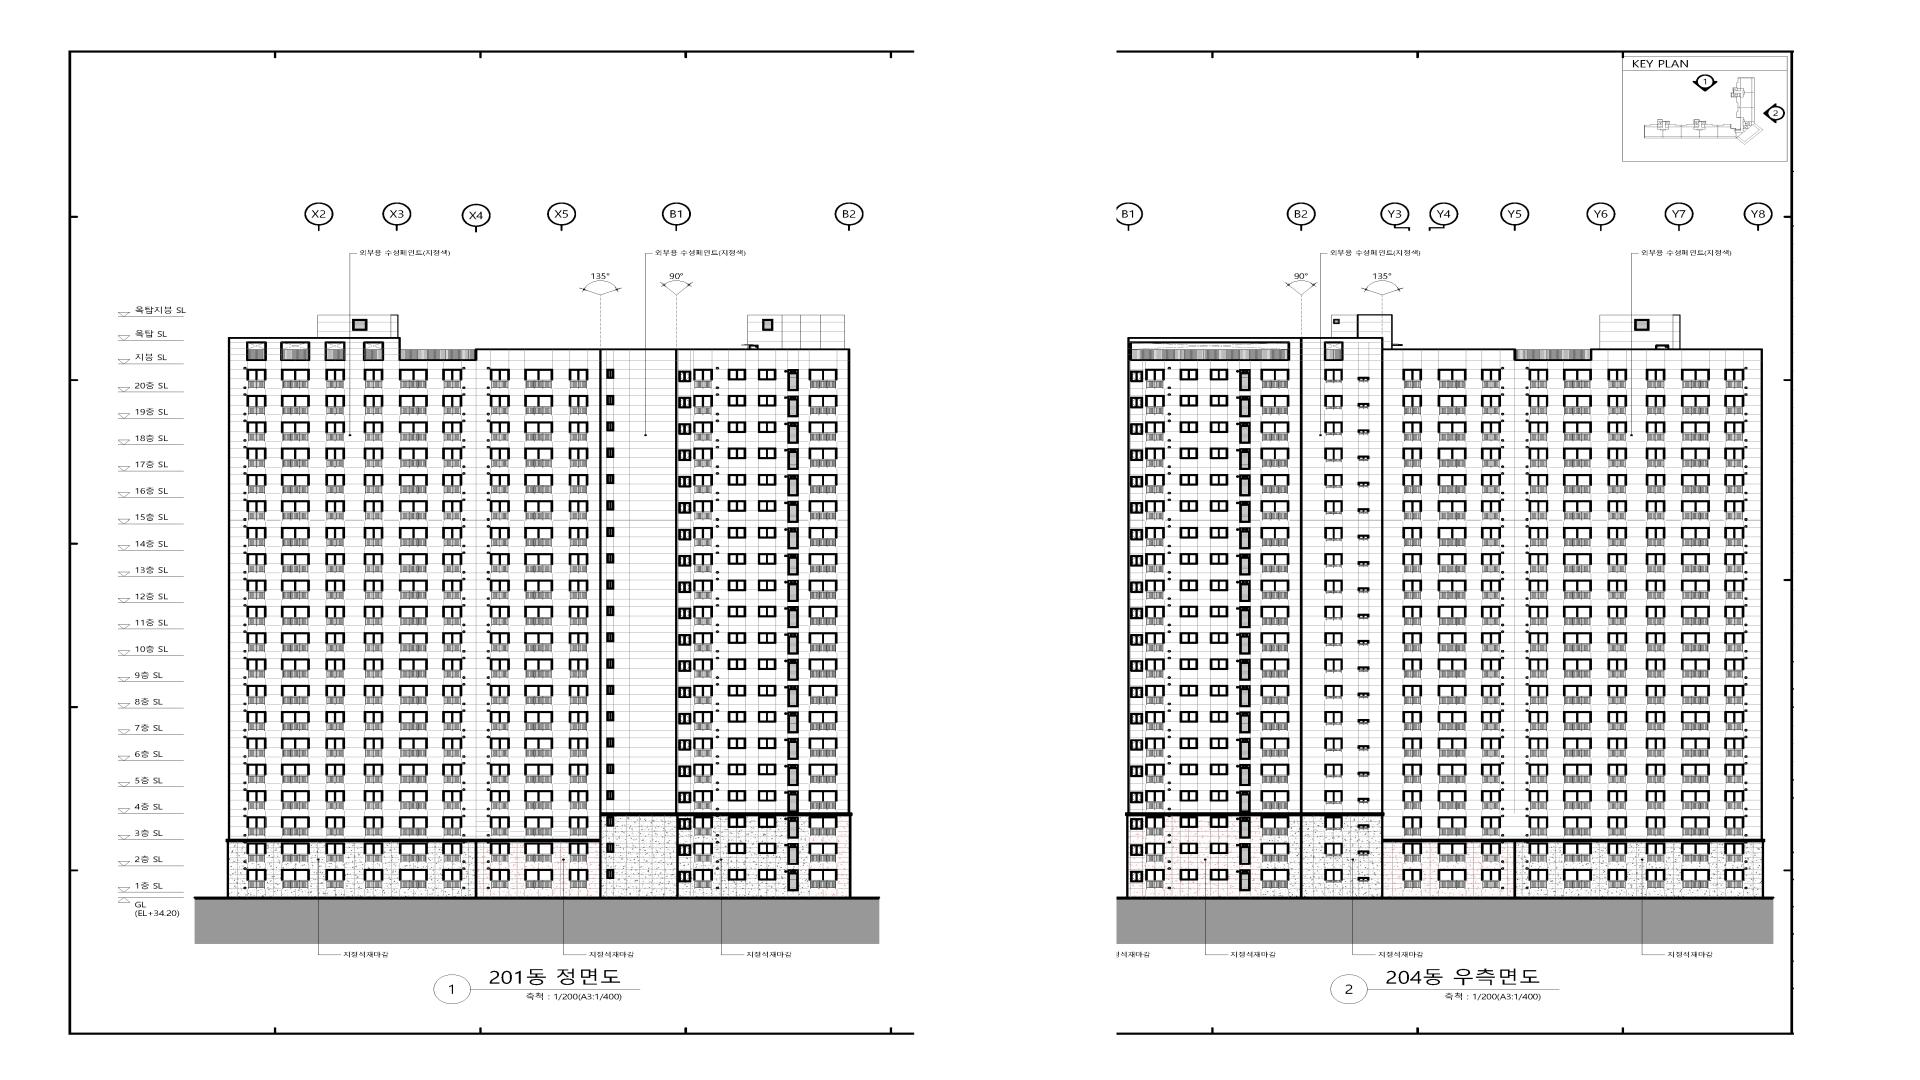wall: (195, 315, 880, 899), (1117, 314, 1774, 899)
window: (1131, 343, 1287, 360), (524, 394, 554, 415), (398, 473, 429, 495), (398, 605, 429, 626), (524, 658, 554, 679), (524, 711, 554, 732), (398, 711, 429, 732), (524, 737, 554, 758), (524, 473, 553, 495), (524, 500, 553, 521), (525, 553, 554, 574), (398, 394, 427, 415), (400, 447, 429, 468), (281, 394, 310, 415), (281, 421, 310, 442), (281, 447, 310, 468), (281, 500, 310, 521), (398, 500, 427, 521), (398, 553, 427, 574), (398, 632, 427, 653), (524, 605, 553, 626), (524, 632, 553, 653), (524, 684, 553, 705), (281, 632, 310, 653), (281, 658, 310, 679), (281, 684, 310, 705), (281, 711, 310, 732), (281, 737, 310, 758), (281, 764, 310, 785), (281, 816, 310, 837), (281, 843, 310, 864), (398, 790, 427, 811), (398, 737, 427, 758), (398, 684, 427, 705), (398, 658, 427, 679), (525, 764, 554, 785), (525, 790, 554, 811), (524, 843, 553, 864), (808, 447, 837, 468), (808, 473, 837, 495), (808, 500, 837, 521), (808, 553, 837, 574), (808, 579, 837, 600), (808, 605, 837, 626), (808, 632, 837, 653), (808, 658, 837, 679), (808, 684, 837, 705), (808, 711, 837, 732), (808, 737, 837, 758), (808, 790, 837, 811), (1261, 394, 1290, 415), (1261, 421, 1290, 442), (1261, 447, 1290, 468), (1261, 473, 1290, 495), (1261, 500, 1290, 521), (1261, 526, 1290, 547), (1261, 605, 1290, 626), (1261, 632, 1290, 653), (1261, 658, 1290, 679), (1261, 684, 1290, 705), (1261, 737, 1290, 758), (1261, 764, 1290, 785), (1261, 790, 1290, 811), (1261, 843, 1290, 864), (1437, 843, 1466, 864), (1437, 816, 1466, 837), (1563, 816, 1592, 837), (1563, 764, 1592, 785), (1437, 790, 1466, 811), (1437, 764, 1466, 785), (1437, 737, 1466, 758), (1563, 737, 1592, 758), (1563, 711, 1592, 732), (1437, 711, 1466, 732), (1437, 684, 1466, 705), (1563, 684, 1592, 705), (1563, 658, 1592, 679), (1563, 632, 1592, 653), (1437, 658, 1466, 679), (1437, 632, 1466, 653), (1437, 605, 1466, 626), (1563, 579, 1592, 600), (1563, 605, 1592, 626), (1437, 579, 1466, 600), (1437, 553, 1466, 574), (1563, 553, 1592, 574), (1437, 526, 1466, 547), (1437, 500, 1466, 521), (1563, 500, 1592, 521), (1563, 447, 1592, 468), (1437, 473, 1466, 495), (1437, 447, 1466, 468), (1437, 421, 1466, 442), (1563, 421, 1592, 442), (1563, 394, 1592, 415), (1437, 394, 1466, 415), (1681, 394, 1710, 415), (1681, 421, 1710, 442), (1681, 447, 1710, 468), (1681, 473, 1710, 495), (1681, 500, 1710, 521), (1681, 553, 1710, 574), (1681, 579, 1710, 600), (1681, 605, 1710, 626), (1681, 632, 1710, 653), (1681, 658, 1710, 679), (1681, 684, 1710, 705), (1681, 711, 1710, 732), (1681, 737, 1710, 758), (1681, 790, 1710, 811), (1681, 816, 1710, 837), (280, 342, 310, 361), (524, 422, 554, 442), (524, 448, 554, 468), (524, 580, 554, 600), (398, 869, 429, 889), (398, 764, 429, 783), (524, 816, 554, 836), (524, 369, 554, 389), (398, 369, 429, 389), (1680, 369, 1710, 389), (524, 527, 553, 547), (398, 422, 427, 442), (281, 475, 310, 495), (398, 527, 427, 547), (398, 580, 427, 600), (281, 527, 310, 547), (281, 554, 310, 574), (281, 580, 310, 600), (281, 607, 310, 626), (281, 790, 310, 810), (281, 869, 310, 889), (400, 843, 429, 862), (400, 816, 429, 836), (524, 869, 553, 889), (808, 369, 837, 389), (281, 369, 310, 389), (808, 396, 837, 415), (808, 422, 837, 442), (808, 527, 837, 547), (808, 764, 837, 783), (808, 816, 837, 836), (808, 843, 837, 862), (808, 869, 837, 889), (1261, 369, 1290, 389), (1261, 554, 1290, 574), (1261, 580, 1290, 600), (1261, 711, 1290, 731), (1261, 816, 1290, 836), (1261, 869, 1290, 889), (1437, 869, 1466, 889), (1563, 843, 1592, 862), (1563, 869, 1592, 889), (1563, 790, 1592, 810), (1563, 527, 1592, 547), (1563, 475, 1592, 495), (1681, 527, 1710, 547), (1681, 764, 1710, 783), (1681, 843, 1710, 862), (1681, 869, 1710, 889), (1437, 369, 1466, 389), (1563, 369, 1592, 389), (568, 394, 589, 415), (489, 447, 510, 468), (568, 500, 589, 521), (568, 526, 589, 547), (489, 473, 510, 495), (568, 605, 589, 626), (568, 684, 589, 705), (442, 737, 463, 758), (442, 684, 463, 705), (489, 632, 510, 653), (442, 632, 463, 653), (489, 605, 510, 626), (442, 605, 463, 626), (489, 553, 510, 574), (324, 500, 345, 521), (442, 368, 463, 389), (692, 815, 713, 836), (324, 342, 345, 361), (694, 394, 713, 415), (694, 421, 713, 442), (694, 447, 713, 468), (694, 473, 713, 495), (694, 553, 713, 574), (694, 579, 713, 600), (694, 605, 713, 626), (694, 632, 713, 653), (694, 737, 713, 758), (489, 396, 510, 415), (442, 396, 463, 415), (364, 394, 384, 415), (568, 447, 588, 468), (568, 473, 588, 495), (568, 553, 588, 574), (568, 579, 588, 600), (568, 632, 588, 653), (568, 658, 588, 679), (489, 843, 510, 862), (442, 843, 463, 862), (442, 816, 463, 836), (489, 816, 510, 836), (489, 790, 510, 810), (442, 790, 463, 810), (489, 764, 510, 783), (489, 737, 510, 757), (489, 711, 510, 731), (489, 684, 510, 704), (489, 580, 510, 600), (442, 554, 463, 574), (489, 527, 510, 547), (491, 500, 510, 521), (442, 500, 463, 520), (442, 475, 463, 495), (442, 447, 462, 468), (364, 421, 384, 442), (326, 421, 345, 442), (364, 447, 384, 468), (326, 473, 345, 495), (364, 500, 384, 521), (326, 553, 345, 574), (364, 553, 384, 574), (364, 579, 384, 600), (326, 605, 345, 626), (364, 605, 384, 626), (326, 632, 345, 653), (568, 421, 588, 442), (489, 422, 510, 442), (364, 632, 384, 653), (364, 684, 384, 705), (326, 711, 345, 732), (364, 711, 384, 732), (363, 869, 384, 889), (247, 684, 266, 705), (247, 605, 266, 626), (247, 579, 266, 600), (247, 553, 266, 574), (247, 500, 266, 521), (363, 342, 384, 361), (489, 369, 510, 389), (247, 447, 266, 468), (1725, 684, 1745, 705), (1646, 737, 1665, 758), (1725, 737, 1745, 758), (1725, 790, 1745, 811), (1646, 843, 1665, 864), (1481, 764, 1501, 785), (1402, 737, 1422, 758), (1481, 737, 1501, 758), (1528, 711, 1548, 732), (1481, 711, 1501, 732), (1402, 711, 1422, 732), (1402, 684, 1422, 705), (1481, 684, 1501, 705), (1528, 684, 1548, 705), (1402, 658, 1422, 679), (1481, 658, 1501, 679), (1528, 658, 1548, 679), (1402, 605, 1422, 626), (1481, 605, 1501, 626), (1403, 579, 1423, 600), (1481, 553, 1501, 574), (1528, 553, 1548, 574), (1528, 500, 1548, 521), (1528, 473, 1548, 495), (1607, 394, 1627, 415), (1646, 394, 1665, 415), (1725, 394, 1745, 415), (1607, 421, 1627, 442), (1607, 447, 1627, 468), (1646, 447, 1665, 468), (1724, 447, 1743, 468), (1607, 473, 1627, 495), (1646, 473, 1665, 495), (1725, 473, 1745, 495), (1607, 500, 1627, 521), (1646, 500, 1665, 521), (1725, 500, 1745, 521), (1646, 553, 1665, 574), (1607, 605, 1627, 626), (1725, 632, 1745, 653), (1646, 632, 1665, 653), (1607, 632, 1627, 653), (1607, 658, 1627, 679), (1607, 684, 1627, 705), (1725, 658, 1745, 679), (1145, 394, 1164, 415), (1145, 500, 1164, 521), (1145, 553, 1164, 574), (1145, 579, 1164, 600), (1145, 605, 1164, 626), (1145, 632, 1164, 653), (1145, 658, 1164, 679), (1145, 684, 1164, 705), (1145, 737, 1164, 758), (1528, 816, 1548, 837), (1402, 473, 1422, 495), (1402, 394, 1422, 415), (1481, 394, 1501, 415), (1528, 421, 1548, 442), (1481, 447, 1501, 468), (1402, 421, 1422, 442), (1402, 447, 1422, 468), (247, 369, 266, 389), (247, 342, 266, 361), (694, 500, 713, 520), (694, 527, 713, 547), (694, 658, 713, 678), (694, 684, 713, 704), (694, 711, 713, 731), (326, 396, 345, 415), (247, 396, 266, 415), (568, 711, 588, 731), (568, 737, 588, 757), (568, 764, 588, 783), (568, 790, 588, 810), (568, 816, 588, 836), (568, 843, 588, 862), (568, 869, 588, 889), (491, 869, 510, 889), (442, 869, 462, 889), (442, 764, 462, 783), (442, 711, 462, 731), (442, 658, 462, 678), (491, 658, 510, 678), (442, 580, 462, 600), (442, 527, 462, 547), (442, 422, 462, 442), (326, 447, 345, 467), (364, 475, 384, 495), (364, 527, 384, 547), (326, 527, 345, 547), (326, 580, 345, 600), (326, 658, 345, 678), (364, 658, 384, 678), (326, 684, 345, 704), (326, 737, 345, 757), (364, 737, 384, 757), (326, 764, 345, 783), (364, 764, 384, 783), (326, 790, 345, 810), (364, 790, 384, 810), (326, 816, 345, 836), (364, 816, 384, 836), (326, 843, 345, 862), (364, 843, 384, 862), (326, 869, 345, 889), (247, 869, 266, 889), (247, 843, 266, 862), (247, 816, 266, 836), (247, 790, 266, 810), (247, 764, 266, 783), (247, 737, 266, 757), (247, 711, 266, 731), (247, 658, 266, 678), (247, 633, 266, 653), (247, 527, 266, 547), (326, 369, 345, 389), (364, 369, 384, 389), (568, 369, 588, 389), (694, 369, 713, 389), (694, 764, 713, 783), (694, 790, 713, 810), (694, 843, 713, 862), (694, 869, 713, 889), (247, 475, 266, 495), (247, 422, 266, 442), (1324, 342, 1344, 361), (1145, 369, 1164, 389), (1402, 369, 1422, 389), (1725, 711, 1745, 731), (1646, 711, 1665, 731), (1607, 711, 1627, 731), (1607, 737, 1627, 757), (1725, 764, 1745, 783), (1646, 764, 1665, 783), (1607, 764, 1627, 783), (1607, 790, 1627, 810), (1646, 790, 1665, 810), (1725, 816, 1745, 836), (1646, 816, 1665, 836), (1607, 816, 1627, 836), (1607, 843, 1627, 862), (1725, 843, 1745, 862), (1725, 869, 1745, 889), (1646, 869, 1665, 889), (1607, 869, 1627, 889), (1403, 790, 1423, 810), (1528, 764, 1548, 783), (1402, 764, 1422, 783), (1528, 738, 1548, 758), (1528, 633, 1548, 653), (1481, 633, 1501, 653), (1402, 633, 1422, 653), (1528, 605, 1548, 625), (1528, 580, 1548, 600), (1481, 580, 1501, 600), (1402, 554, 1422, 574), (1528, 527, 1548, 547), (1481, 527, 1501, 547), (1402, 527, 1422, 547), (1403, 500, 1423, 520), (1481, 500, 1501, 520), (1646, 422, 1665, 442), (1725, 422, 1745, 442), (1607, 527, 1627, 547), (1646, 527, 1665, 547), (1725, 527, 1745, 547), (1607, 554, 1627, 574), (1725, 554, 1745, 574), (1607, 580, 1627, 600), (1646, 580, 1665, 600), (1646, 605, 1665, 625), (1646, 659, 1665, 679), (1646, 686, 1665, 705), (1145, 475, 1164, 495), (1145, 527, 1164, 547), (1145, 711, 1164, 731), (1145, 764, 1164, 783), (1145, 790, 1164, 810), (1145, 816, 1164, 836), (1145, 843, 1164, 862), (1146, 869, 1166, 889), (1402, 869, 1422, 889), (1481, 869, 1501, 889), (1528, 869, 1548, 889), (1528, 843, 1548, 862), (1481, 843, 1501, 862), (1402, 843, 1422, 862), (1402, 816, 1422, 836), (1481, 816, 1501, 836), (1528, 791, 1548, 811), (1481, 790, 1501, 810), (1481, 369, 1501, 389), (1528, 369, 1548, 389), (1607, 369, 1627, 389), (1646, 369, 1665, 389), (1725, 369, 1745, 389), (1481, 473, 1501, 493), (1528, 396, 1548, 415), (1528, 447, 1548, 467), (1481, 422, 1501, 442), (1725, 605, 1743, 626), (1725, 580, 1743, 600), (1146, 422, 1164, 442), (1146, 448, 1164, 468), (1324, 394, 1342, 410), (1324, 447, 1342, 463), (1324, 473, 1342, 489), (1324, 605, 1342, 621), (1324, 632, 1342, 647), (1324, 658, 1342, 674), (1324, 737, 1342, 753), (1324, 369, 1342, 384), (1324, 422, 1342, 436), (1324, 500, 1342, 514), (1324, 527, 1342, 542), (1324, 554, 1342, 568), (1324, 579, 1342, 593), (1324, 684, 1342, 699), (1324, 711, 1342, 725), (1324, 764, 1342, 778), (1324, 790, 1342, 804), (1324, 816, 1342, 831), (1324, 843, 1342, 857), (1324, 869, 1342, 884), (787, 422, 799, 444), (787, 527, 799, 550), (787, 658, 799, 680), (787, 711, 799, 733), (787, 737, 799, 760), (787, 764, 799, 786), (787, 790, 799, 812), (787, 816, 799, 839), (787, 843, 799, 865), (787, 869, 799, 891), (787, 369, 799, 392), (787, 396, 799, 418), (1240, 448, 1251, 471), (1240, 501, 1251, 524), (1240, 869, 1251, 891), (787, 448, 799, 469), (787, 475, 799, 496), (787, 501, 799, 522), (787, 554, 799, 575), (787, 580, 799, 601), (787, 607, 799, 628), (787, 633, 799, 654), (787, 686, 799, 707), (1240, 475, 1251, 496), (1240, 369, 1250, 392), (1240, 396, 1250, 418), (1240, 422, 1250, 444), (1240, 527, 1250, 550), (1240, 554, 1250, 576), (1240, 607, 1250, 629), (1240, 658, 1250, 680), (1240, 684, 1250, 707), (1240, 711, 1250, 733), (1240, 764, 1250, 786), (1240, 790, 1250, 812), (1240, 816, 1250, 839), (1240, 843, 1250, 865), (1209, 394, 1229, 406), (1179, 421, 1199, 433), (1179, 764, 1199, 775), (1209, 764, 1229, 775), (1179, 790, 1199, 802), (1179, 843, 1199, 855), (1209, 843, 1229, 855), (1179, 869, 1199, 881), (1240, 580, 1250, 601), (1240, 633, 1250, 654), (1240, 738, 1250, 760), (728, 605, 746, 617), (728, 632, 746, 644), (758, 632, 777, 644), (758, 658, 777, 670), (728, 658, 746, 670), (728, 684, 746, 696), (758, 684, 777, 696), (758, 711, 777, 723), (728, 711, 746, 723), (728, 737, 746, 749), (758, 737, 777, 749), (728, 764, 746, 775), (758, 764, 777, 775), (758, 790, 777, 802), (728, 790, 746, 802), (728, 816, 746, 828), (758, 816, 777, 828), (728, 843, 746, 855), (758, 843, 777, 855), (758, 869, 777, 881), (728, 869, 746, 881), (758, 394, 777, 406), (728, 394, 746, 406), (728, 422, 746, 434), (758, 447, 777, 459), (728, 447, 746, 459), (728, 473, 746, 485), (758, 473, 777, 485), (758, 500, 777, 512), (728, 500, 746, 512), (758, 553, 777, 564), (728, 553, 746, 564), (728, 579, 746, 591), (758, 579, 777, 591), (758, 605, 777, 617), (758, 369, 777, 381), (1180, 394, 1199, 406), (1209, 422, 1228, 434), (1180, 447, 1199, 459), (1211, 447, 1229, 459), (1179, 473, 1197, 485), (1180, 500, 1199, 512), (1209, 500, 1228, 512), (1209, 527, 1228, 539), (1180, 553, 1199, 564), (1180, 605, 1199, 617), (1209, 605, 1228, 617), (1180, 632, 1199, 644), (1209, 632, 1228, 644), (1180, 658, 1199, 670), (1209, 658, 1228, 670), (1180, 684, 1199, 696), (1209, 684, 1228, 696), (1180, 711, 1199, 723), (1209, 711, 1228, 723), (1180, 737, 1199, 749), (1209, 737, 1228, 749), (1209, 790, 1228, 802), (1179, 816, 1197, 828), (1209, 816, 1228, 828), (1209, 869, 1228, 881), (1209, 475, 1229, 485), (758, 422, 777, 433), (728, 527, 746, 538), (758, 527, 777, 538), (728, 369, 746, 380), (1180, 369, 1199, 380), (1209, 369, 1228, 380), (1180, 527, 1199, 538), (1211, 554, 1229, 564), (1180, 580, 1199, 591), (1209, 580, 1228, 591), (352, 319, 368, 331), (1634, 319, 1650, 331), (678, 371, 691, 382), (678, 397, 691, 409), (678, 423, 691, 435), (678, 450, 691, 462), (678, 476, 691, 488), (678, 502, 691, 514), (678, 529, 691, 541), (678, 555, 691, 567), (678, 582, 691, 593), (678, 608, 691, 620), (678, 634, 691, 646), (678, 765, 691, 777), (678, 791, 691, 803), (678, 818, 691, 829), (678, 844, 691, 856), (678, 870, 691, 882), (1130, 371, 1143, 382), (1130, 529, 1143, 541), (1130, 555, 1143, 567), (1130, 582, 1143, 593), (1130, 608, 1143, 620), (1130, 634, 1143, 646), (1130, 661, 1143, 673), (1130, 712, 1143, 724), (1130, 765, 1143, 777), (1130, 791, 1143, 803), (1130, 818, 1143, 829), (1130, 844, 1143, 856), (1130, 870, 1143, 882), (1130, 397, 1143, 409), (1130, 423, 1143, 435), (1130, 450, 1143, 462), (1130, 476, 1143, 488), (1130, 502, 1143, 514), (762, 319, 774, 331), (678, 661, 691, 671), (678, 687, 691, 698), (678, 713, 691, 724), (678, 740, 691, 750), (1130, 687, 1143, 698), (1130, 740, 1143, 750), (1357, 771, 1370, 778), (1357, 824, 1370, 831), (1357, 851, 1370, 857), (1357, 508, 1370, 514), (1357, 560, 1370, 567), (1357, 587, 1370, 593), (1357, 640, 1370, 646), (607, 711, 615, 721), (607, 737, 615, 748), (607, 764, 615, 774), (607, 790, 615, 800), (607, 816, 615, 827), (607, 843, 615, 853), (607, 869, 615, 880), (607, 421, 615, 431), (607, 447, 615, 458), (607, 473, 615, 484), (607, 500, 615, 510), (607, 553, 615, 563), (607, 605, 615, 616), (607, 632, 615, 642), (607, 658, 615, 669), (607, 684, 615, 695), (1358, 798, 1370, 804), (1357, 877, 1369, 884), (1357, 402, 1369, 409), (1357, 455, 1369, 462), (1358, 481, 1370, 488), (1358, 534, 1370, 541), (1358, 613, 1370, 620), (1358, 666, 1370, 673), (1357, 692, 1369, 699), (1357, 719, 1369, 725), (1357, 745, 1369, 752), (607, 369, 615, 378), (607, 396, 615, 405), (607, 527, 615, 537), (607, 580, 615, 589), (1357, 377, 1370, 382), (1357, 430, 1369, 435), (1333, 319, 1340, 324)
